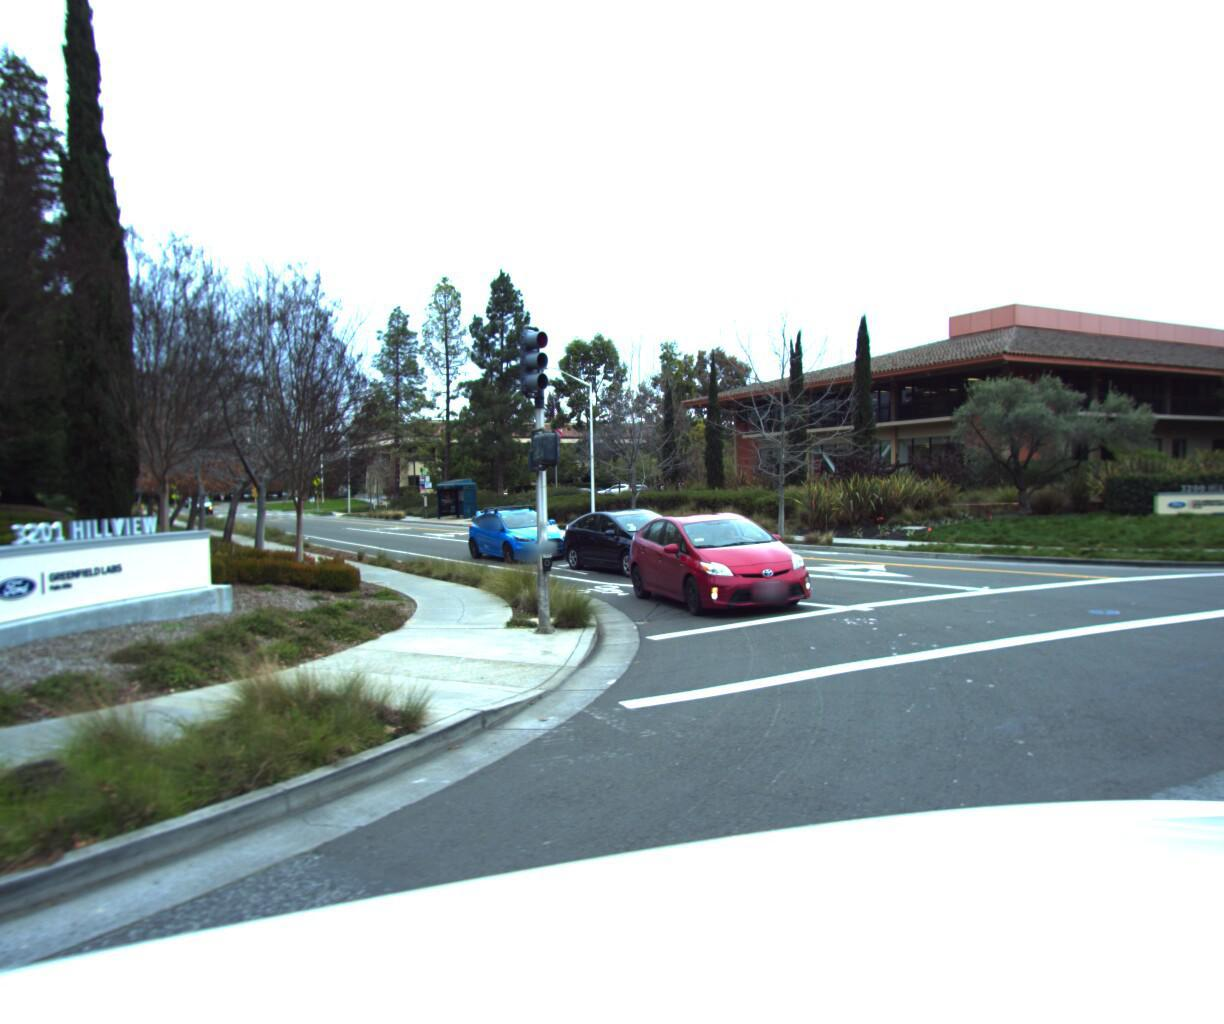car: (618, 507, 829, 621), (556, 499, 722, 578), (467, 500, 582, 564)
